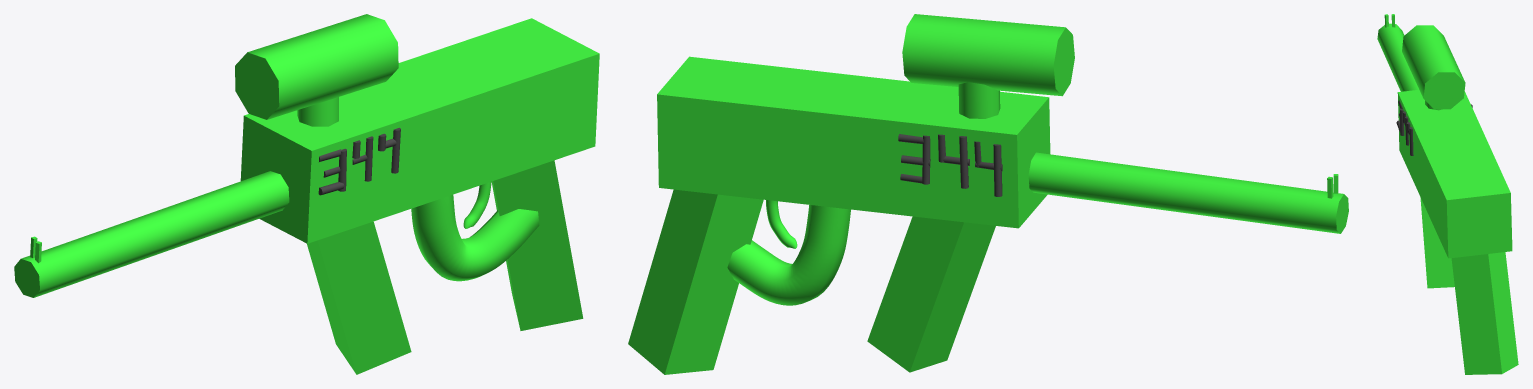
The picture shows the model from 3 angles, left to right: view 1: azimuth 30°, elevation 25°; view 2: azimuth 150°, elevation 25°; view 3: azimuth 270°, elevation 25°; orthographic projection. The views are drawn at different scales.
Visible parts, largest first — view 1: position_2; view 2: position_2; view 3: position_2.
Part boxes in pixels (<box>): position_2: <box>14,14,599,374</box>; position_2: <box>628,14,1348,374</box>; position_2: <box>1377,14,1518,374</box>.
Size of the model in its own units: 0.6069 by 0.3491 by 0.1823.
